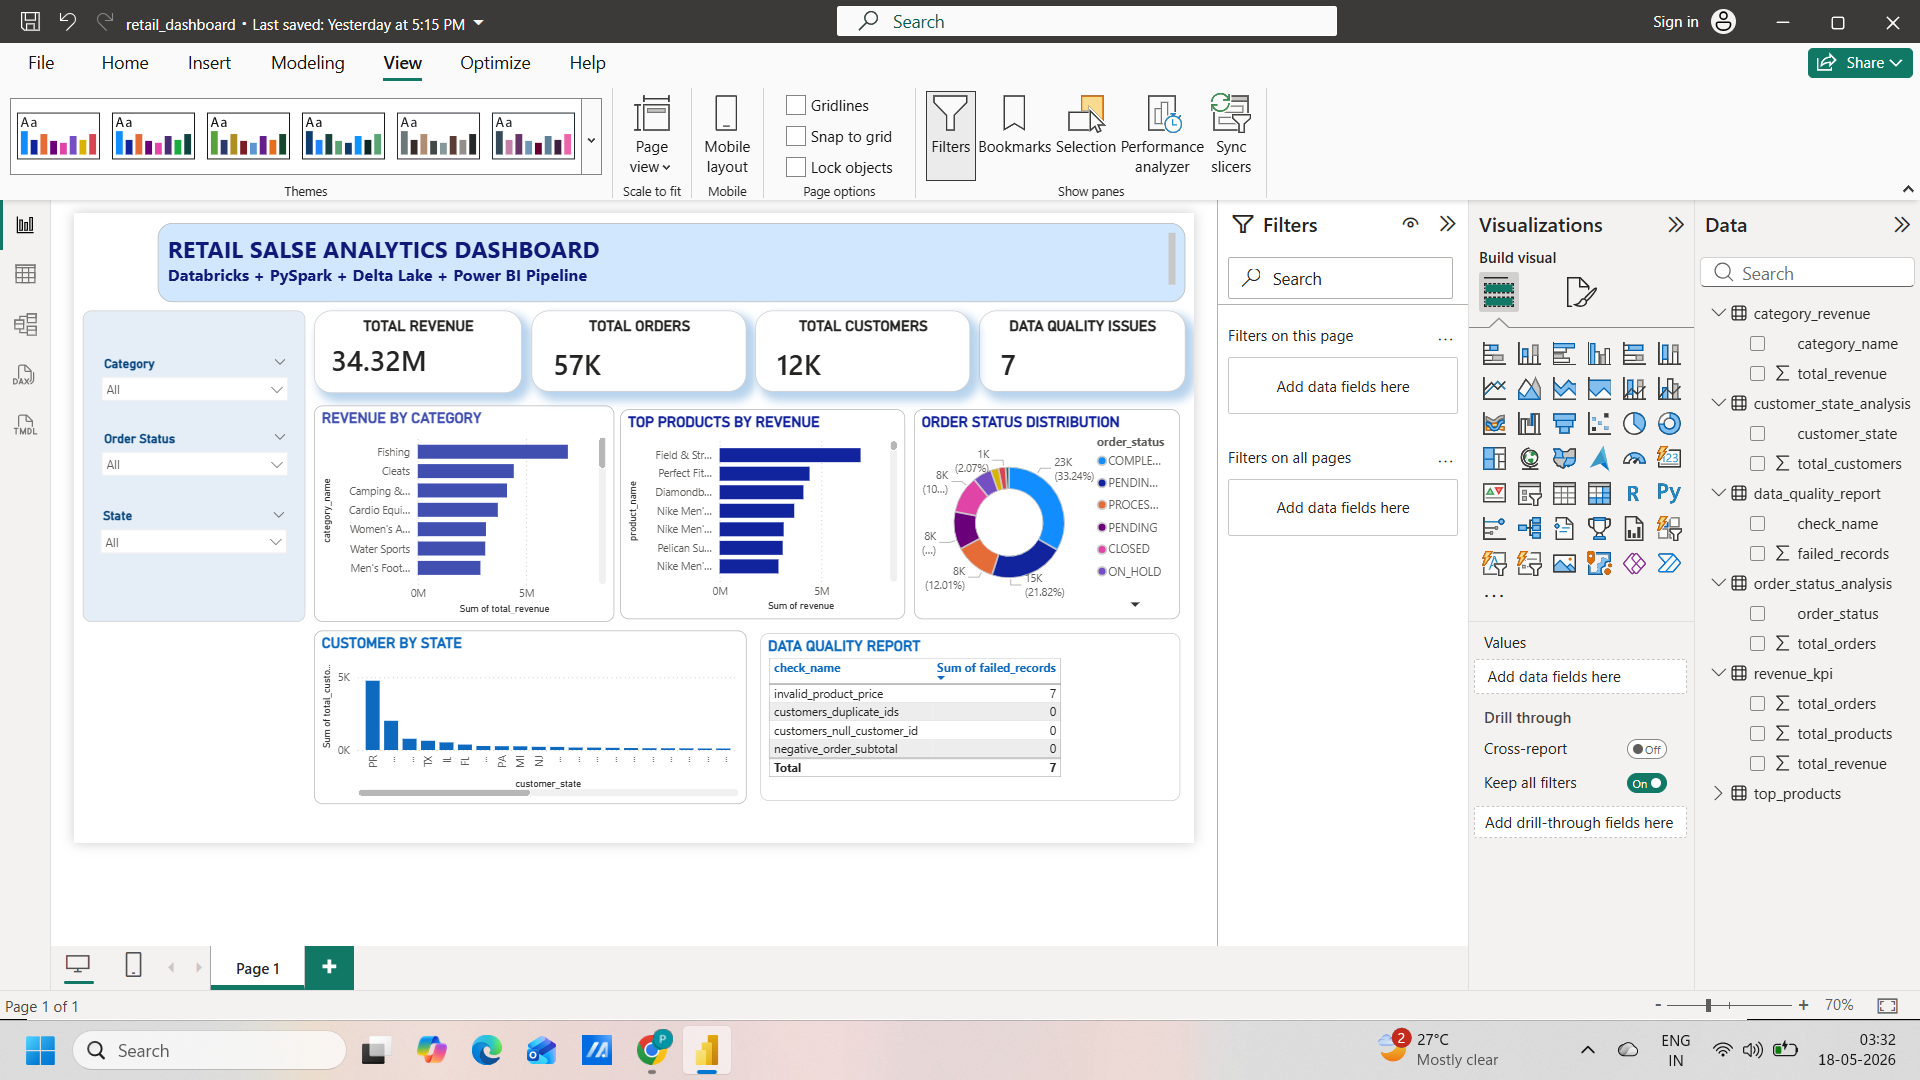

The page's visual inventory and layout, read from the dashboard file:
{"tool":"powerbi","page":{"name":"Page 1","canvas":[1280,720],"ordinal":0},"visuals":[{"type":"textbox","box":[96,8,1176,72],"z":0},{"type":"clusteredBarChart","title":"TOP PRODUCTS BY REVENUE","fields":{"Category":["top_products.product_name"],"Y":["Sum(top_products.revenue)"]},"box":[584,208,340,220],"z":1000},{"type":"donutChart","title":"ORDER STATUS DISTRIBUTION","fields":{"Category":["order_status_analysis.order_status"],"Y":["Sum(order_status_analysis.total_orders)"]},"box":[936,208,330,220],"z":2000},{"type":"clusteredColumnChart","title":"CUSTOMER BY STATE","fields":{"Category":["customer_state_analysis.customer_state"],"Y":["Sum(customer_state_analysis.total_customers)"]},"box":[232,432,510,208],"z":3000},{"type":"tableEx","title":"DATA QUALITY REPORT","fields":{"Values":["data_quality_report.check_name","Sum(data_quality_report.failed_records)"]},"box":[752,432,515,208],"z":4000},{"type":"clusteredBarChart","title":"REVENUE BY CATEGORY","fields":{"Category":["category_revenue.category_name"],"Y":["Sum(category_revenue.total_revenue)"]},"box":[232,208,340,220],"z":5000},{"type":"cardVisual","title":"TOTAL ORDERS","fields":{"Data":["Sum(revenue_kpi.total_orders)"]},"box":[496,96,250,100],"z":6000},{"type":"cardVisual","title":"DATA QUALITY ISSUES","fields":{"Data":["Sum(data_quality_report.failed_records)"]},"box":[1024,96,248,100],"z":7000},{"type":"cardVisual","title":"TOTAL CUSTOMERS","fields":{"Data":["Sum(customer_state_analysis.total_customers)"]},"box":[760,96,250,100],"z":8000},{"type":"shape","title":" FILTERS","box":[16,96,200,280],"z":9000},{"type":"slicer","fields":{"Values":["category_revenue.category_name"]},"box":[24,160,184,80],"z":10000},{"type":"slicer","fields":{"Values":["order_status_analysis.order_status"]},"box":[24,224,184,72],"z":11000},{"type":"slicer","fields":{"Values":["customer_state_analysis.customer_state"]},"box":[24,296,184,64],"z":12000},{"type":"shape","box":[8,8,80,72],"z":13000},{"type":"image","box":[8,24,72,48],"z":14000},{"type":"image","box":[520,128,40,56],"z":15000},{"type":"image","box":[784,128,40,56],"z":16000},{"type":"image","box":[1056,128,40,56],"z":17000},{"type":"shape","box":[224,648,1040,72],"z":18000},{"type":"shape","box":[16,376,200,344],"z":19000},{"type":"image","box":[24,112,32,24],"z":20000},{"type":"textbox","box":[64,112,128,32],"z":21000},{"type":"image","box":[32,520,20,32],"z":22000},{"type":"image","box":[32,608,20,30],"z":23000},{"type":"image","box":[32,392,20,30],"z":24000},{"type":"textbox","box":[32,432,180,96],"z":25000},{"type":"textbox","box":[56,392,128,32],"z":26000},{"type":"shape","box":[32,544,16,72],"z":27000},{"type":"image","box":[32,560,20,30],"z":28000},{"type":"textbox","box":[64,552,144,64],"z":29000},{"type":"textbox","box":[64,512,128,48],"z":30000},{"type":"textbox","box":[64,608,128,64],"z":31000},{"type":"image","box":[24,672,32,16],"z":32000},{"type":"textbox","box":[64,664,144,48],"z":33000},{"type":"cardVisual","title":"TOTAL ORDERS","fields":{"Data":["Sum(revenue_kpi.total_revenue)"]},"box":[232,96,250,100],"z":34000},{"type":"image","box":[256,128,40,48],"z":35000},{"type":"image","box":[240,664,35,40],"z":35001},{"type":"image","box":[704,664,35,40],"z":35002},{"type":"image","box":[536,664,32,40],"z":35003},{"type":"image","box":[384,664,35,40],"z":35004},{"type":"image","box":[840,664,35,40],"z":35005},{"type":"image","box":[1016,664,32,40],"z":35006},{"type":"textbox","box":[280,672,104,32],"z":35007},{"type":"textbox","box":[416,672,120,32],"z":35008},{"type":"textbox","box":[568,672,136,32],"z":35009},{"type":"textbox","box":[744,672,96,32],"z":35010},{"type":"textbox","box":[880,672,136,32],"z":35011},{"type":"textbox","box":[1048,672,208,32],"z":35012}]}

Visuals, with their boxes on the page's 1280x720 design canvas (x1, y1, x2, y2). These are canvas units, not pixel positions in the 1920x1080 screenshot, which may show the page scaled, cropped or inside an application window:
textbox: crop(96, 8, 1272, 80)
"TOP PRODUCTS BY REVENUE" clusteredBarChart: crop(584, 208, 924, 428)
"ORDER STATUS DISTRIBUTION" donutChart: crop(936, 208, 1266, 428)
"CUSTOMER BY STATE" clusteredColumnChart: crop(232, 432, 742, 640)
"DATA QUALITY REPORT" tableEx: crop(752, 432, 1267, 640)
"REVENUE BY CATEGORY" clusteredBarChart: crop(232, 208, 572, 428)
"TOTAL ORDERS" cardVisual: crop(496, 96, 746, 196)
"DATA QUALITY ISSUES" cardVisual: crop(1024, 96, 1272, 196)
"TOTAL CUSTOMERS" cardVisual: crop(760, 96, 1010, 196)
" FILTERS" shape: crop(16, 96, 216, 376)
slicer - category_revenue.category_name: crop(24, 160, 208, 240)
slicer - order_status_analysis.order_status: crop(24, 224, 208, 296)
slicer - customer_state_analysis.customer_state: crop(24, 296, 208, 360)
shape: crop(8, 8, 88, 80)
image: crop(8, 24, 80, 72)
image: crop(520, 128, 560, 184)
image: crop(784, 128, 824, 184)
image: crop(1056, 128, 1096, 184)
shape: crop(224, 648, 1264, 720)
shape: crop(16, 376, 216, 720)
image: crop(24, 112, 56, 136)
textbox: crop(64, 112, 192, 144)
image: crop(32, 520, 52, 552)
image: crop(32, 608, 52, 638)
image: crop(32, 392, 52, 422)
textbox: crop(32, 432, 212, 528)
textbox: crop(56, 392, 184, 424)
shape: crop(32, 544, 48, 616)
image: crop(32, 560, 52, 590)
textbox: crop(64, 552, 208, 616)
textbox: crop(64, 512, 192, 560)
textbox: crop(64, 608, 192, 672)
image: crop(24, 672, 56, 688)
textbox: crop(64, 664, 208, 712)
"TOTAL ORDERS" cardVisual: crop(232, 96, 482, 196)
image: crop(256, 128, 296, 176)
image: crop(240, 664, 275, 704)
image: crop(704, 664, 739, 704)
image: crop(536, 664, 568, 704)
image: crop(384, 664, 419, 704)
image: crop(840, 664, 875, 704)
image: crop(1016, 664, 1048, 704)
textbox: crop(280, 672, 384, 704)
textbox: crop(416, 672, 536, 704)
textbox: crop(568, 672, 704, 704)
textbox: crop(744, 672, 840, 704)
textbox: crop(880, 672, 1016, 704)
textbox: crop(1048, 672, 1256, 704)
